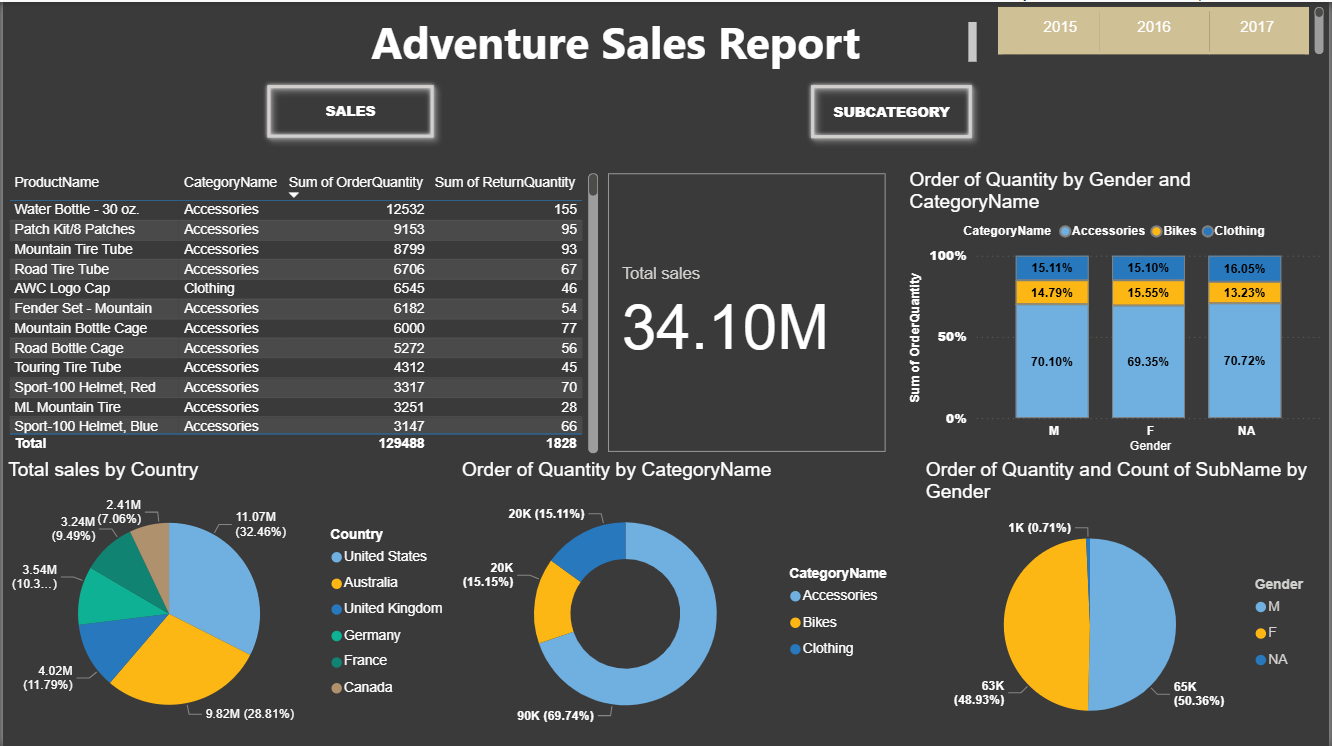

What the dashboard file says about the page in this screenshot:
{"tool":"powerbi","page":{"name":"ADVENTURE SALES REPORT","canvas":[1280,720],"ordinal":0},"visuals":[{"type":"pieChart","fields":{"Y":["Sales Fact.Total sales"],"Category":["Territories_Dim.Country"]},"box":[0,440.4,437.9,279.9],"z":0},{"type":"donutChart","title":"Order of Quantity by CategoryName","fields":{"Category":["Product_Categories_Dim.CategoryName"],"Y":["Sum(Sales Fact.OrderQuantity)"]},"box":[437.9,440.4,437.9,279.9],"z":1000},{"type":"tableEx","fields":{"Values":["Products_Dim.ProductName","Product_Categories_Dim.CategoryName","Sum(Sales Fact.OrderQuantity)","Sum(Returns_Dim.ReturnQuantity)"]},"box":[0,160.5,579.1,279.9],"z":2000},{"type":"hundredPercentStackedColumnChart","title":" Order of Quantity by Gender and CategoryName","fields":{"Y":["Sum(Sales Fact.OrderQuantity)"],"Category":["customer_dim.Gender"],"Series":["Product_Categories_Dim.CategoryName"]},"box":[869.8,160.5,410.2,279.9],"z":3000},{"type":"cardVisual","fields":{"Data":["Sales Fact.Total sales"]},"box":[579.1,160.5,278.7,279.9],"z":4000},{"type":"pieChart","title":"Order of Quantity and Count of SubName by Gender","fields":{"Y":["Sum(Sales Fact.OrderQuantity)"],"Category":["customer_dim.Gender"]},"box":[885.5,440.4,394.5,279.9],"z":5000},{"type":"textbox","box":[246.1,14.5,698.5,56.7],"z":6000},{"type":"actionButton","box":[770.6,71,173.2,69.3],"z":7000},{"type":"actionButton","box":[246.1,71.2,178.6,68.8],"z":8000},{"type":"pivotTable","fields":{"Columns":["calender_dim.Year"]},"box":[955.5,0,324.5,55.5],"z":14000}]}

Visuals, with their boxes in screenshot pixels (x1, y1, x2, y2), scaled from the page's 1280x720 canvas onto the 1332x746 screenshot:
pieChart - Sales Fact.Total sales x Territories_Dim.Country: l=0, t=456, r=456, b=745
"Order of Quantity by CategoryName" donutChart: l=456, t=456, r=911, b=745
tableEx - Products_Dim.ProductName x Product_Categories_Dim.CategoryName: l=0, t=166, r=603, b=456
" Order of Quantity by Gender and CategoryName" hundredPercentStackedColumnChart: l=905, t=166, r=1331, b=456
cardVisual - Sales Fact.Total sales: l=603, t=166, r=893, b=456
"Order of Quantity and Count of SubName by Gender" pieChart: l=921, t=456, r=1331, b=745
textbox: l=256, t=15, r=983, b=74
actionButton: l=802, t=74, r=982, b=145
actionButton: l=256, t=74, r=442, b=145
pivotTable - calender_dim.Year: l=994, t=0, r=1331, b=58
